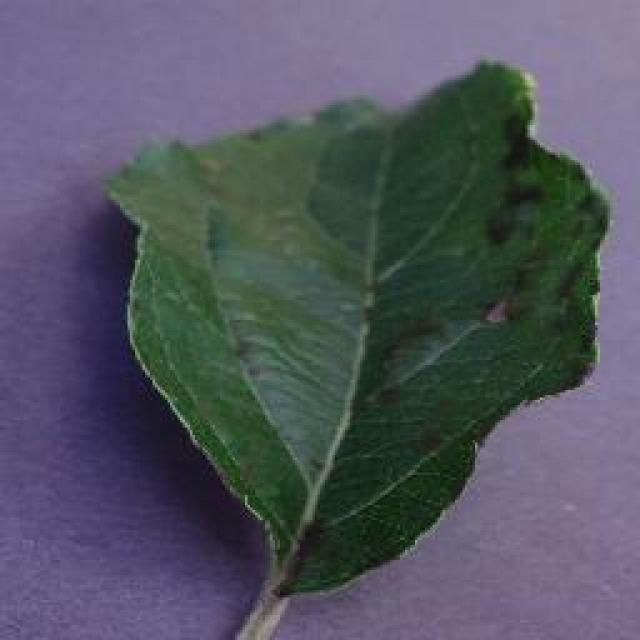apple scab disease: (102, 55, 612, 610)
